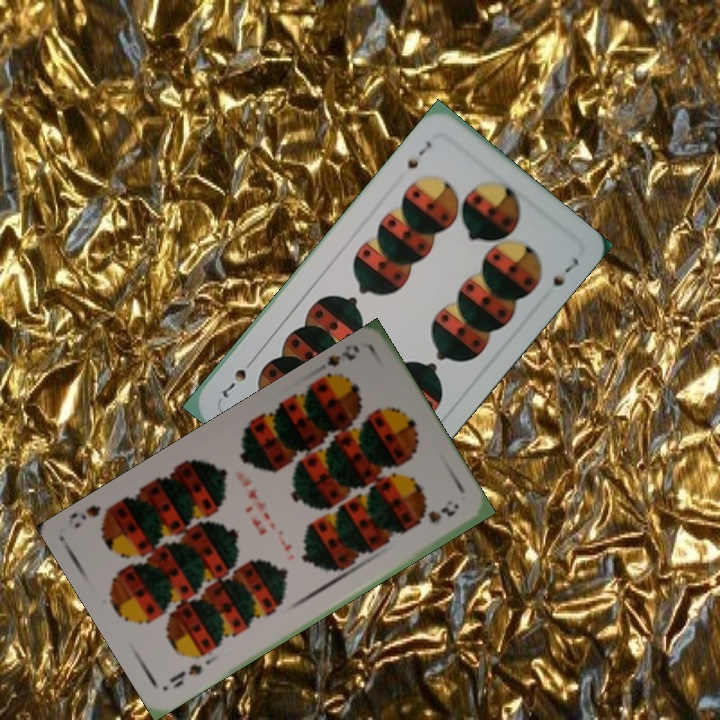S7: (402, 136, 435, 172)
S9: (315, 341, 362, 387), (165, 660, 205, 691)
